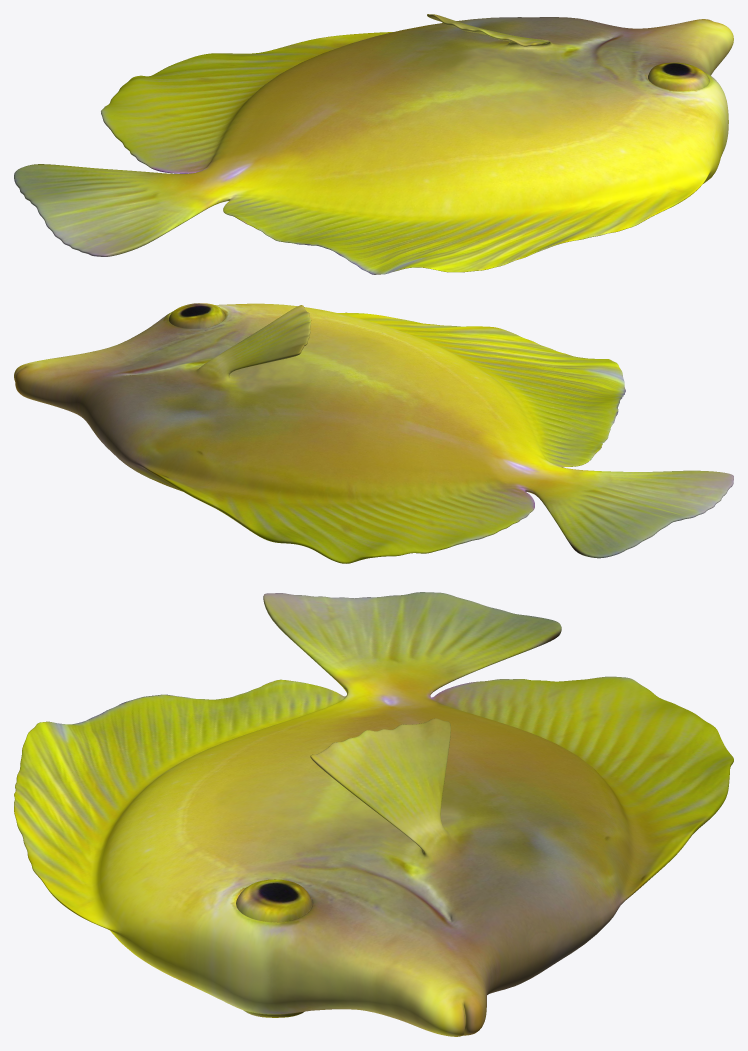
The model's file is 13015_Yellow_Tang_v1_L3.obj.
3 renders of one model, top to bottom at view 1: azimuth 30°, elevation 25°; view 2: azimuth 150°, elevation 25°; view 3: azimuth 270°, elevation 25°, orthographic. The views are drawn at different scales.
Visible parts, largest first — view 1: 13015_Yellow_Tang; view 2: 13015_Yellow_Tang; view 3: 13015_Yellow_Tang.
Part boxes in pixels (bbox=[...]): 13015_Yellow_Tang: bbox=[14, 14, 733, 274]; 13015_Yellow_Tang: bbox=[14, 303, 733, 563]; 13015_Yellow_Tang: bbox=[14, 592, 733, 1036].
Size of the model in its own units: 25.68 by 6.88 by 18.08.
1 material, 1 textured.
